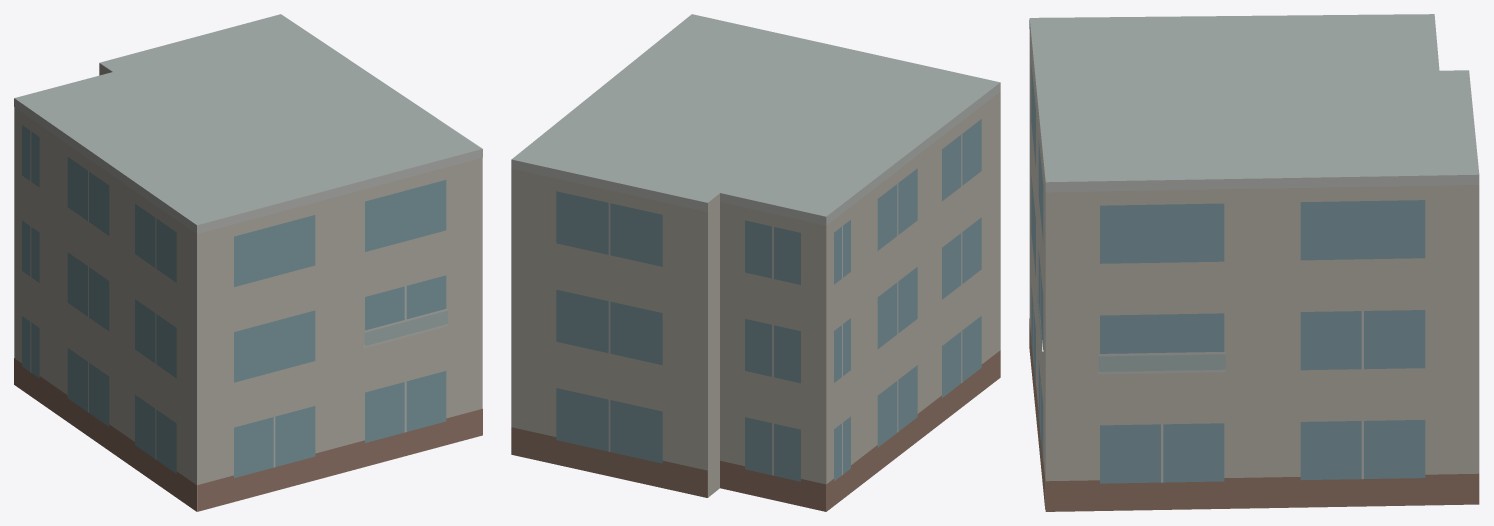
File: survey-upis-32611060.glb
3 views of the same model, side by side, from view 1: azimuth 30°, elevation 25°; view 2: azimuth 150°, elevation 25°; view 3: azimuth 270°, elevation 25° (orthographic). The views are drawn at different scales.
Visible parts, largest first — view 1: survey-upis-32611060.tmp; view 2: survey-upis-32611060.tmp; view 3: survey-upis-32611060.tmp.
Part boxes in pixels (x1,y1,x2,y2): survey-upis-32611060.tmp: [14, 14, 482, 511]; survey-upis-32611060.tmp: [511, 14, 1000, 511]; survey-upis-32611060.tmp: [1029, 14, 1479, 511].
Bounding box in the file's own units: 8.71 × 7.95 × 9.84.
